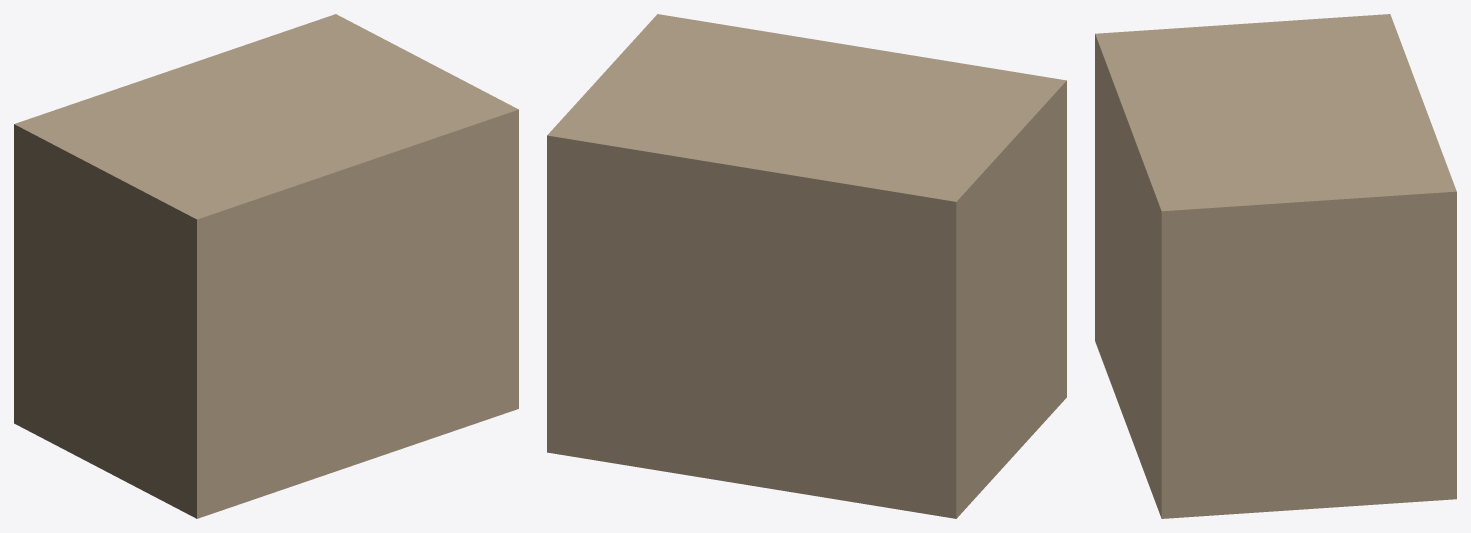
File: bld_163484268.dae
The picture shows the model from 3 angles, left to right: view 1: azimuth 30°, elevation 25°; view 2: azimuth 150°, elevation 25°; view 3: azimuth 270°, elevation 25°; orthographic projection. The views are drawn at different scales.
Parts seen in each view (by area): view 1: bld_163484268; view 2: bld_163484268; view 3: bld_163484268.
Part boxes in pixels (x1,y1,x2,y2): bld_163484268: (14,14,518,518); bld_163484268: (547,14,1066,518); bld_163484268: (1095,14,1456,518).
Bounding box in the file's own units: 11.01 × 8.52 × 8.
